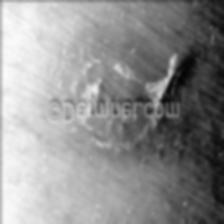Non-Cancerous Skin Condition: (72, 52, 178, 149)
